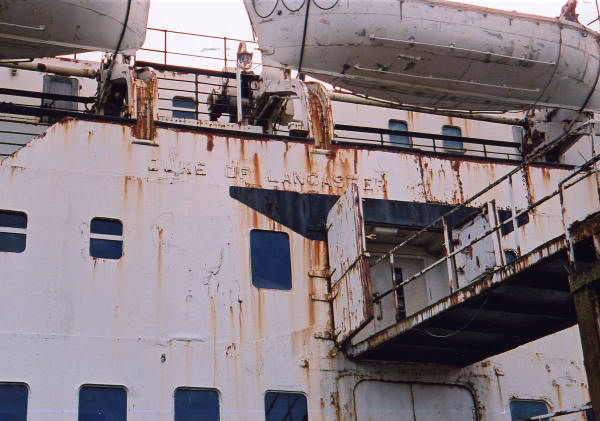rust: (191, 131, 280, 184), (303, 244, 338, 328), (305, 98, 337, 167), (131, 72, 156, 142), (153, 223, 171, 263), (123, 176, 147, 206), (431, 158, 467, 175)
